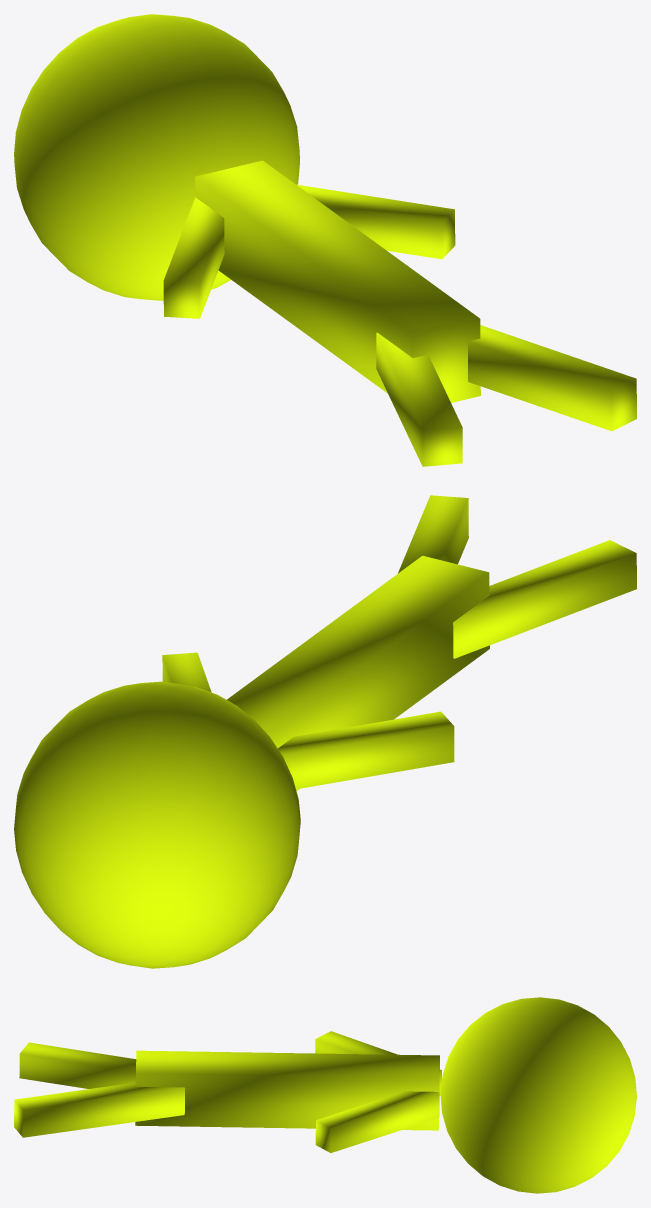
Rendered from Person.gltf.
The picture shows the model from 3 angles, top to bottom: view 1: azimuth 30°, elevation 25°; view 2: azimuth 150°, elevation 25°; view 3: azimuth 270°, elevation 25°; orthographic projection. The views are drawn at different scales.
Visible parts, largest first — view 1: Node1; view 2: Node1; view 3: Node1.
Boxes of the visible parts, x1,y1,x2,y2 form: Node1: [14, 14, 636, 466]; Node1: [14, 495, 636, 968]; Node1: [14, 997, 636, 1193].
Bounding box in the file's own units: 1.65 × 1.4 × 4.45.
